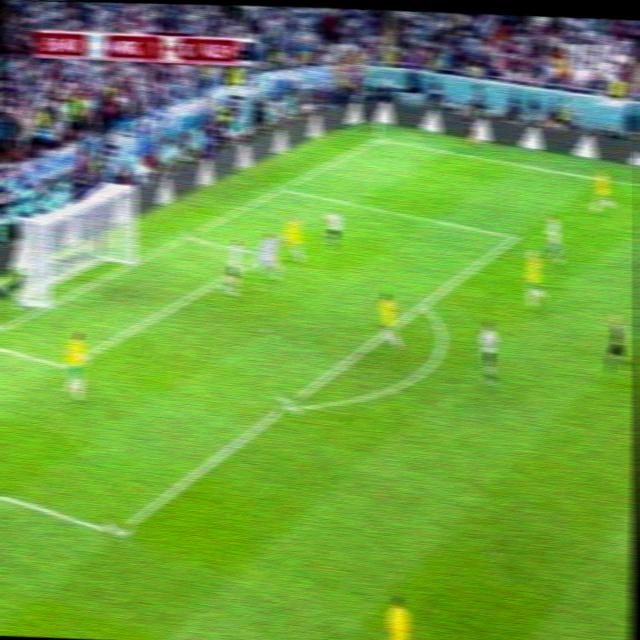bigarea_bottom_inner: (104, 516, 132, 550)
bigarea_top_inner: (504, 226, 524, 249)
bigarea_top_outter: (275, 183, 291, 197)
bottom_arc_area_intersection: (277, 392, 300, 420)
corner: (373, 135, 390, 146)
smallarea_top_inner: (260, 251, 270, 264)
smallarea_top_outter: (179, 227, 198, 245)
top_arc_area_intersection: (412, 291, 434, 320)
